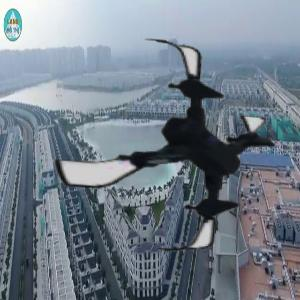drone: (54, 35, 281, 262)
